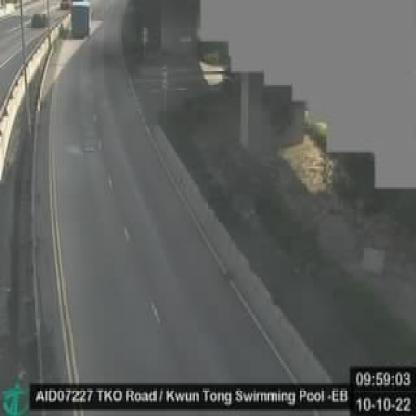Truck: (68, 1, 92, 39)
